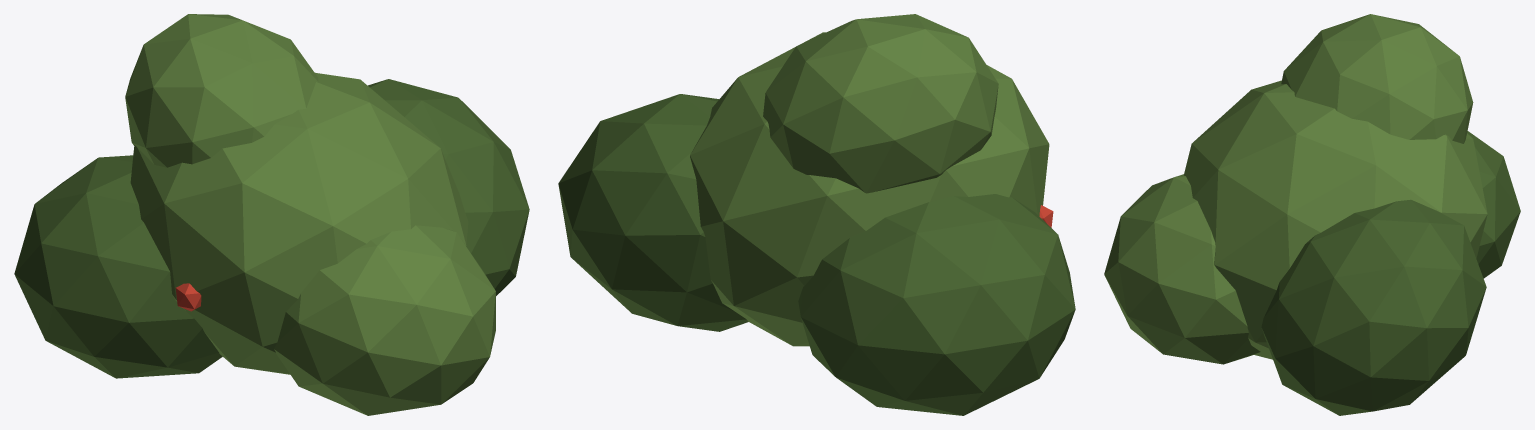
The model's file is Bush.fbx.
3 views of the same model, side by side, from view 1: azimuth 30°, elevation 25°; view 2: azimuth 150°, elevation 25°; view 3: azimuth 270°, elevation 25° (orthographic). The views are drawn at different scales.
Visible parts, largest first — view 1: Bush; view 2: Bush; view 3: Bush.
Part boxes in pixels (box(x1,y1,x2,y2)): Bush: box(14, 14, 529, 415); Bush: box(558, 14, 1075, 415); Bush: box(1104, 14, 1520, 415).
Size of the model in its own units: 0.5519 by 0.3778 by 0.4794.
